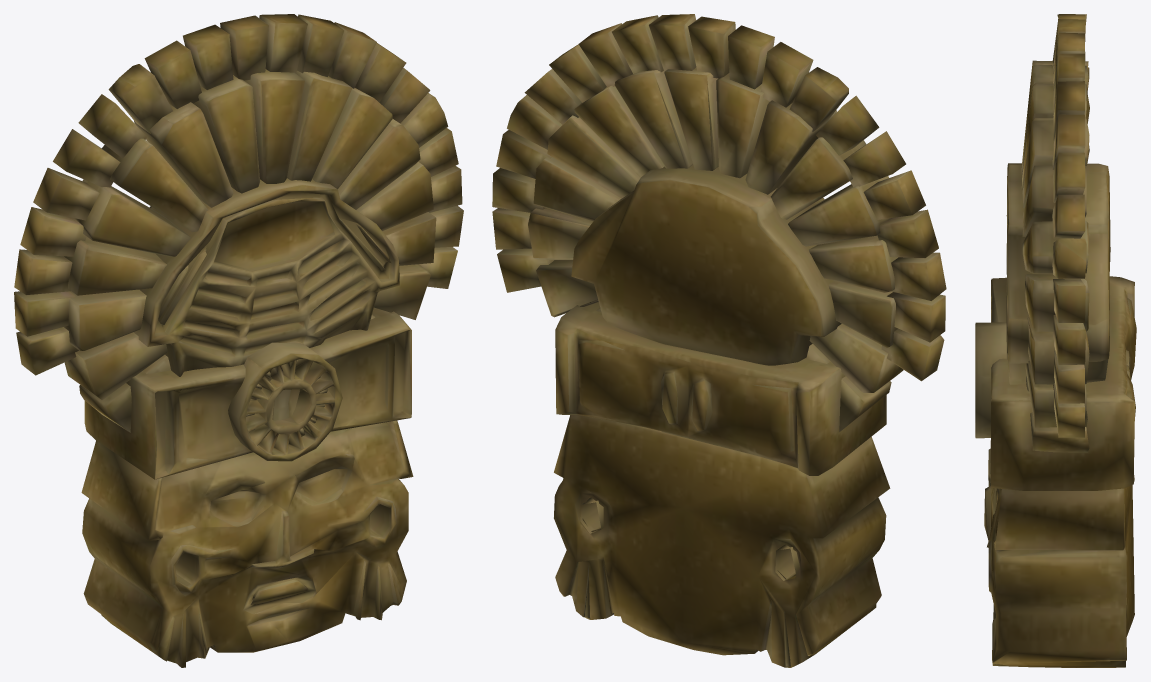
The model's file is aztec-god.lod0.glb.
The picture shows the model from 3 angles, left to right: view 1: azimuth 30°, elevation 25°; view 2: azimuth 150°, elevation 25°; view 3: azimuth 270°, elevation 25°; orthographic projection. The views are drawn at different scales.
Visible parts, largest first — view 1: Aztec God_Aztec God_0; view 2: Aztec God_Aztec God_0; view 3: Aztec God_Aztec God_0.
Boxes of the visible parts, bbox=[...] form: Aztec God_Aztec God_0: bbox=[14, 14, 463, 667]; Aztec God_Aztec God_0: bbox=[492, 14, 946, 667]; Aztec God_Aztec God_0: bbox=[975, 14, 1136, 667].
Bounding box in the file's own units: 3.81 × 4.98 × 1.25.
1 material, 1 textured.
